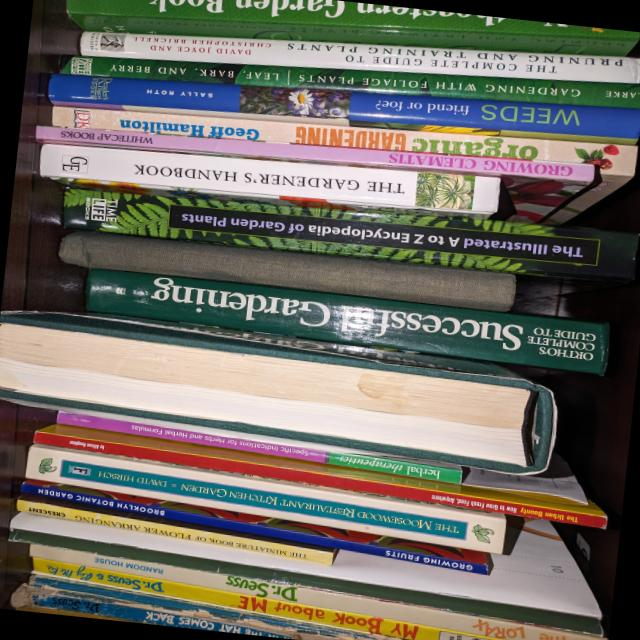book: (59, 181, 638, 305), (31, 419, 608, 529), (30, 123, 601, 227), (26, 540, 606, 640), (81, 266, 610, 374), (48, 103, 637, 199), (22, 441, 508, 555), (18, 476, 494, 576), (45, 71, 640, 145), (55, 226, 516, 313), (30, 556, 507, 640), (37, 142, 499, 220), (57, 53, 640, 109), (54, 406, 466, 485), (65, 0, 639, 56), (78, 29, 640, 84), (8, 574, 400, 640), (13, 491, 337, 568)
